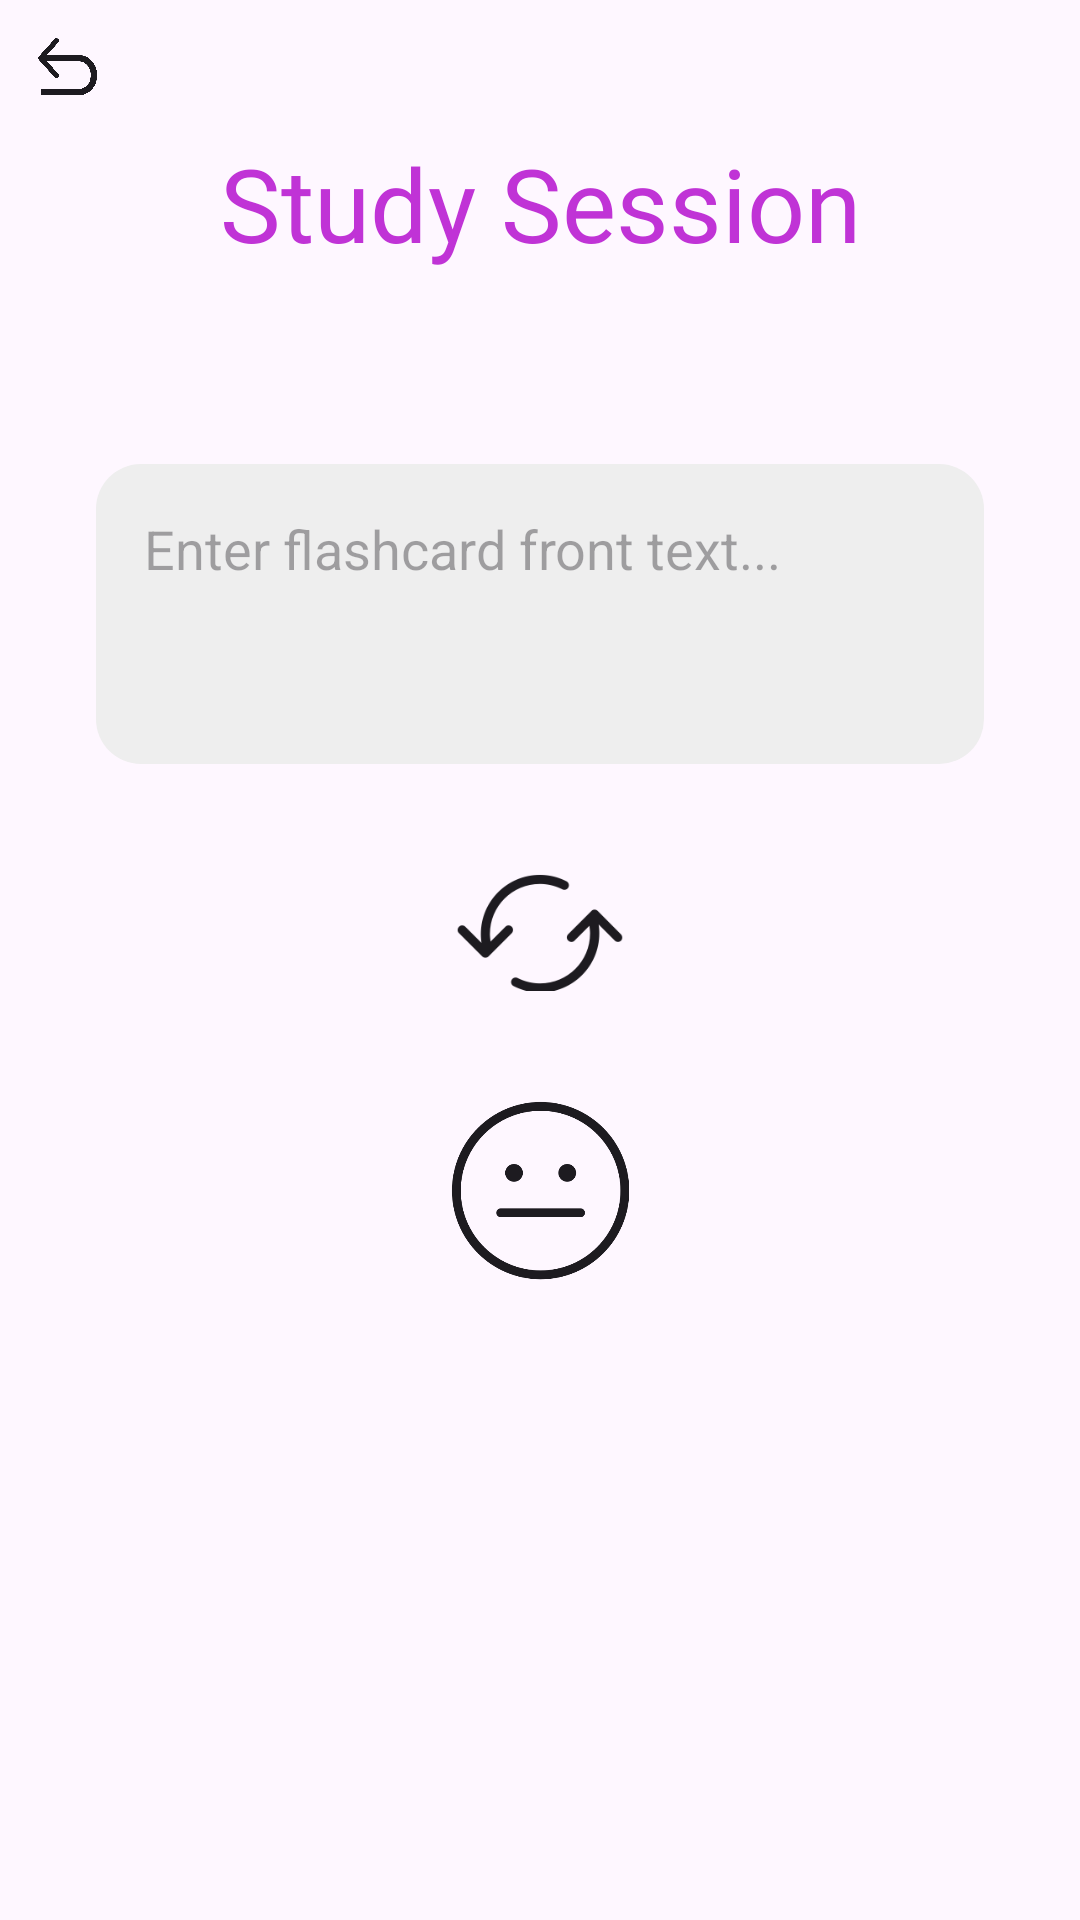

Where icons sit on this 1080w x 1920h app screen, as (x1, y1, x2, y2):
Back arrow icon: (38, 38, 97, 95)
Flip deck icon: (457, 875, 623, 991)
Neutral face icon: (452, 1102, 629, 1280)
